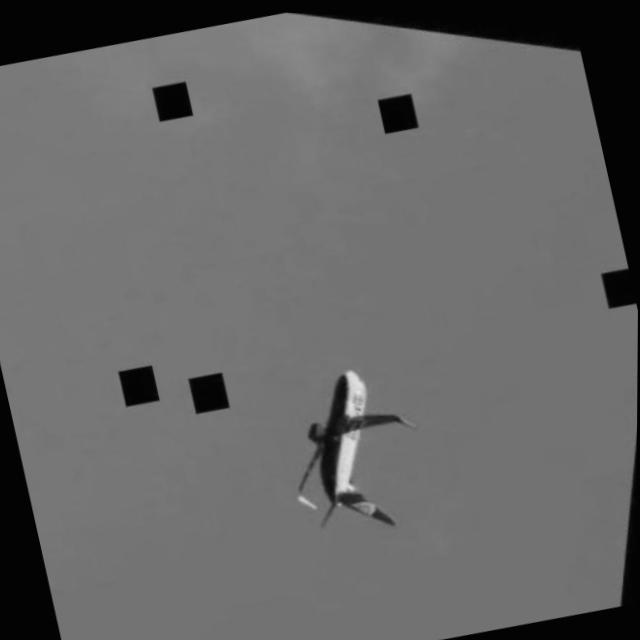aeroplane: (266, 349, 429, 548)
